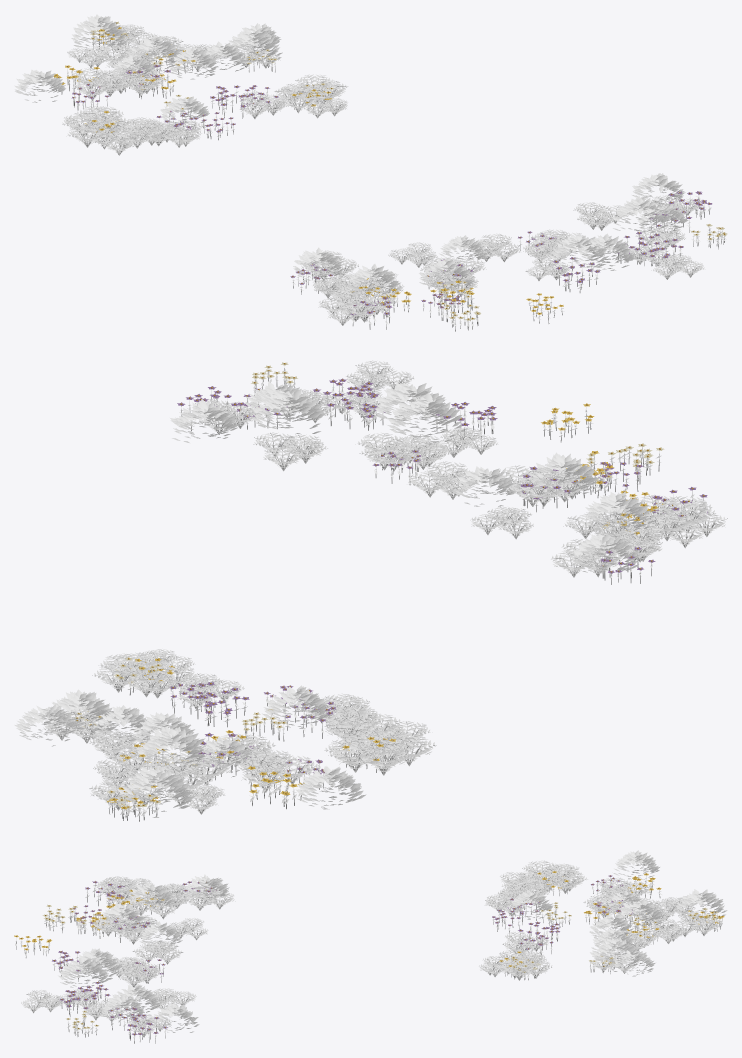
File: SM_NW_Nature_1_0_Flora.fbx
3 views of the same model, one above another, from view 1: azimuth 30°, elevation 25°; view 2: azimuth 150°, elevation 25°; view 3: azimuth 270°, elevation 25° (orthographic). The views are drawn at different scales.
Parts seen in each view (by area): view 1: SM_NW_Nature_1_0_Flora; view 2: SM_NW_Nature_1_0_Flora; view 3: SM_NW_Nature_1_0_Flora.
Part boxes in pixels (x1,y1,x2,y2): SM_NW_Nature_1_0_Flora: (14,14,727,331); SM_NW_Nature_1_0_Flora: (14,360,727,821); SM_NW_Nature_1_0_Flora: (14,850,727,1043).
Bounding box in the file's own units: 1530 × 2590 × 153.
